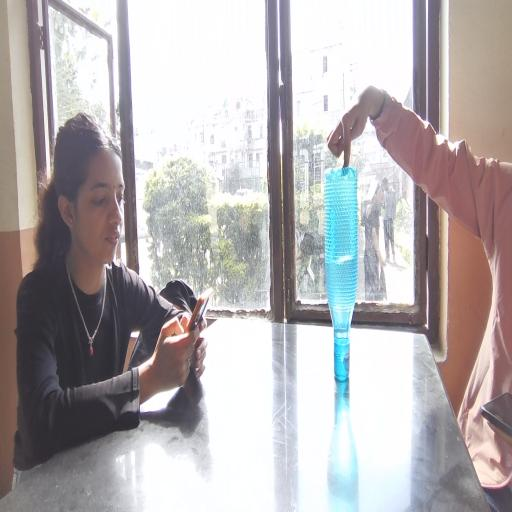Bottle: (320, 145, 377, 393)
